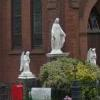Statue: (46, 9, 68, 64)
